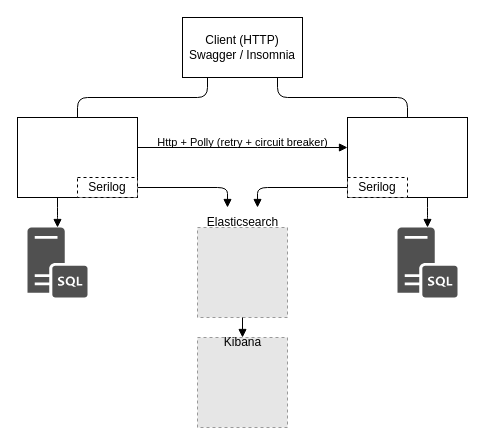
Some shapes in this 485 by 445 pixel diagram are drawn without their labels. Grey dashed boxes stand in for pictures. The shapes that lost their labels are listed below. From the top down, each one's box as (x1, y1, x2, y2) in pixels, then its label:
(16, 116, 138, 198): City Platform ApiOne (.NET 8)
(346, 116, 468, 198): Bridge Platform ApiTwo (.NET 8)
